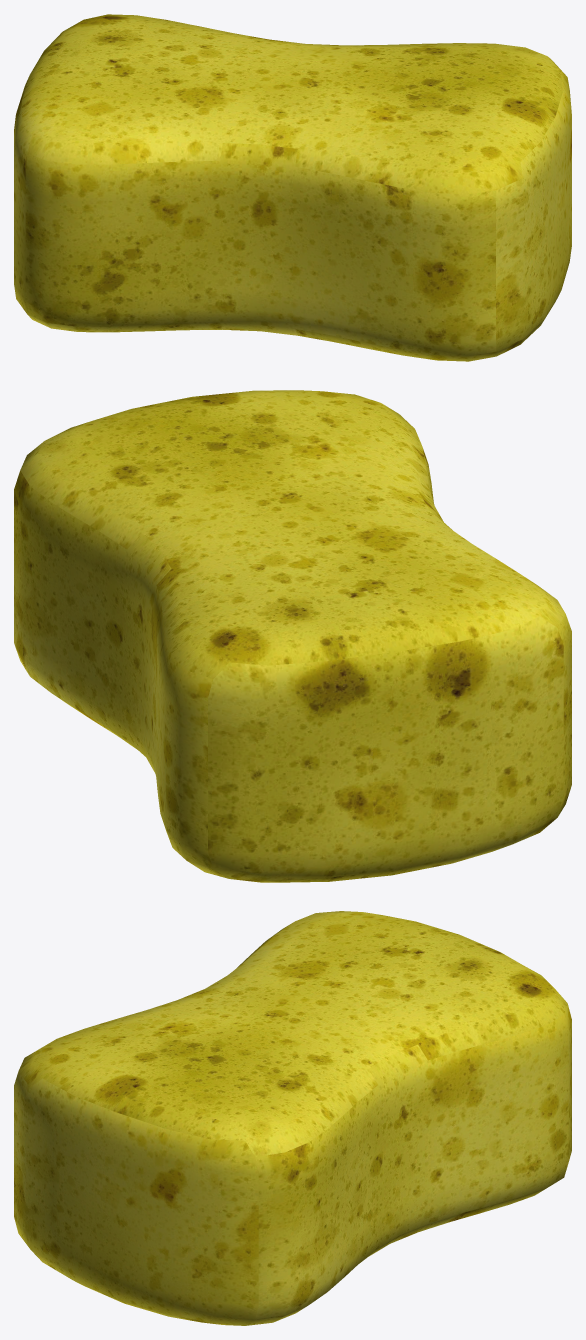
File: sponge.obj
The picture shows the model from 3 angles, top to bottom: view 1: azimuth 30°, elevation 25°; view 2: azimuth 150°, elevation 25°; view 3: azimuth 270°, elevation 25°; orthographic projection. The views are drawn at different scales.
Parts seen in each view (by area): view 1: Cube.001; view 2: Cube.001; view 3: Cube.001.
Part boxes in pixels (x1,y1,x2,y2): Cube.001: (14, 14, 571, 361); Cube.001: (14, 390, 571, 882); Cube.001: (14, 911, 571, 1325).
Bounding box in the file's own units: 1.06 × 0.4468 × 1.03.
1 material, 1 textured.
